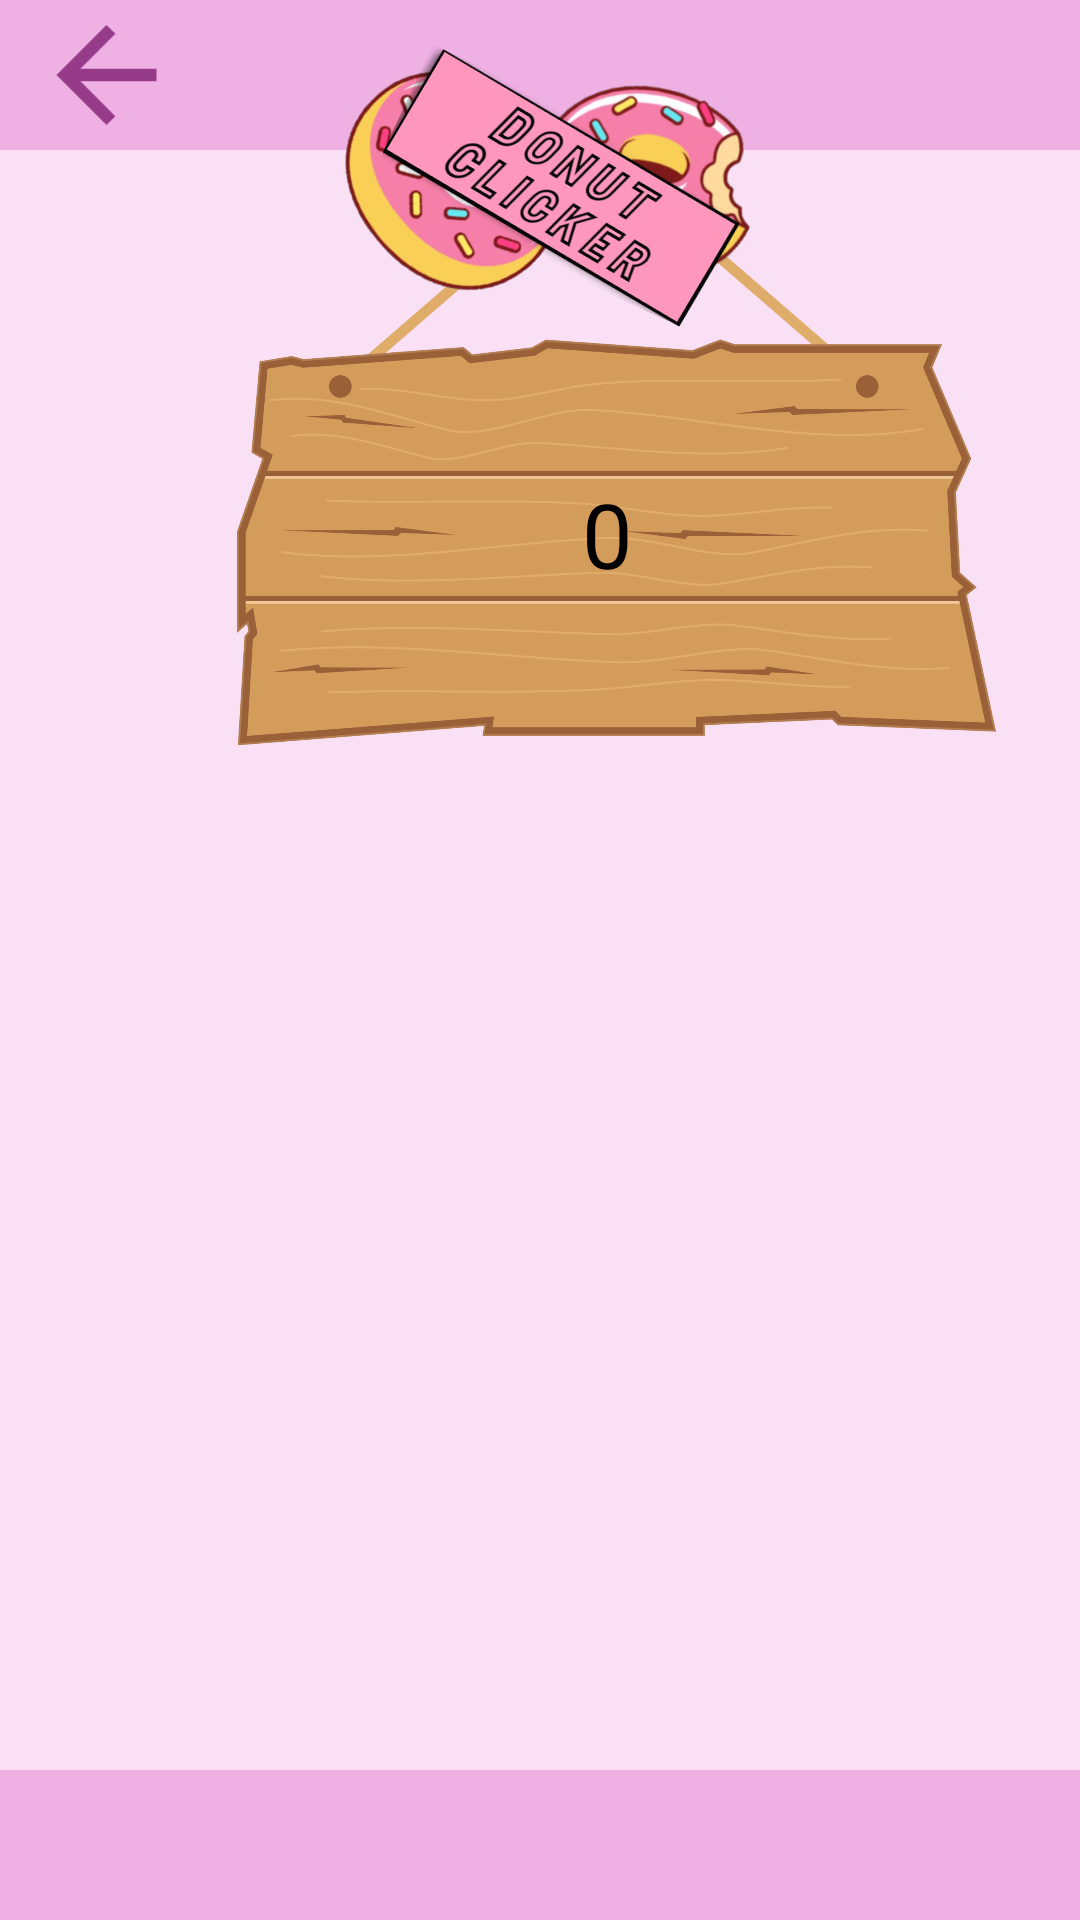

Screen size 1080 x 1920. Icon name, then its box in pixels as {"x1": x1, "y1": y1, "x2": x2, "y2": y2}:
arrow back: {"x1": 56, "y1": 25, "x2": 157, "y2": 125}
